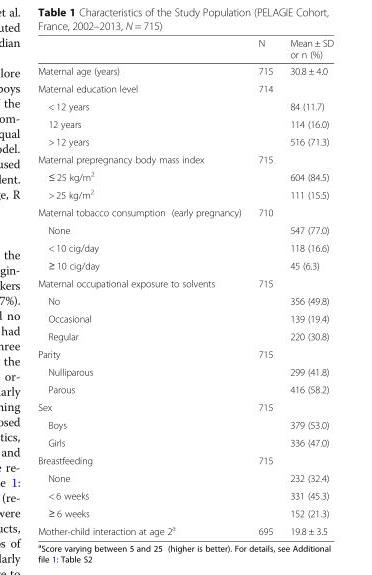table: (37, 37, 333, 536)
table column: (37, 37, 249, 536), (280, 37, 333, 536), (249, 37, 280, 536)
table column header: (37, 37, 333, 62)
table row: (37, 37, 333, 62), (37, 184, 333, 203), (37, 79, 333, 97), (37, 114, 333, 132), (37, 132, 333, 150), (37, 203, 333, 221), (37, 238, 333, 256), (37, 256, 333, 274), (37, 291, 333, 309), (37, 309, 333, 327), (37, 327, 333, 345), (37, 362, 333, 380), (37, 380, 333, 398), (37, 415, 333, 433), (37, 433, 333, 451), (37, 468, 333, 486), (37, 486, 333, 504), (37, 62, 333, 79), (37, 97, 333, 114), (37, 150, 333, 167), (37, 167, 333, 184), (37, 221, 333, 238), (37, 274, 333, 291), (37, 345, 333, 362), (37, 398, 333, 415), (37, 451, 333, 468), (37, 504, 333, 521), (37, 521, 333, 536)
